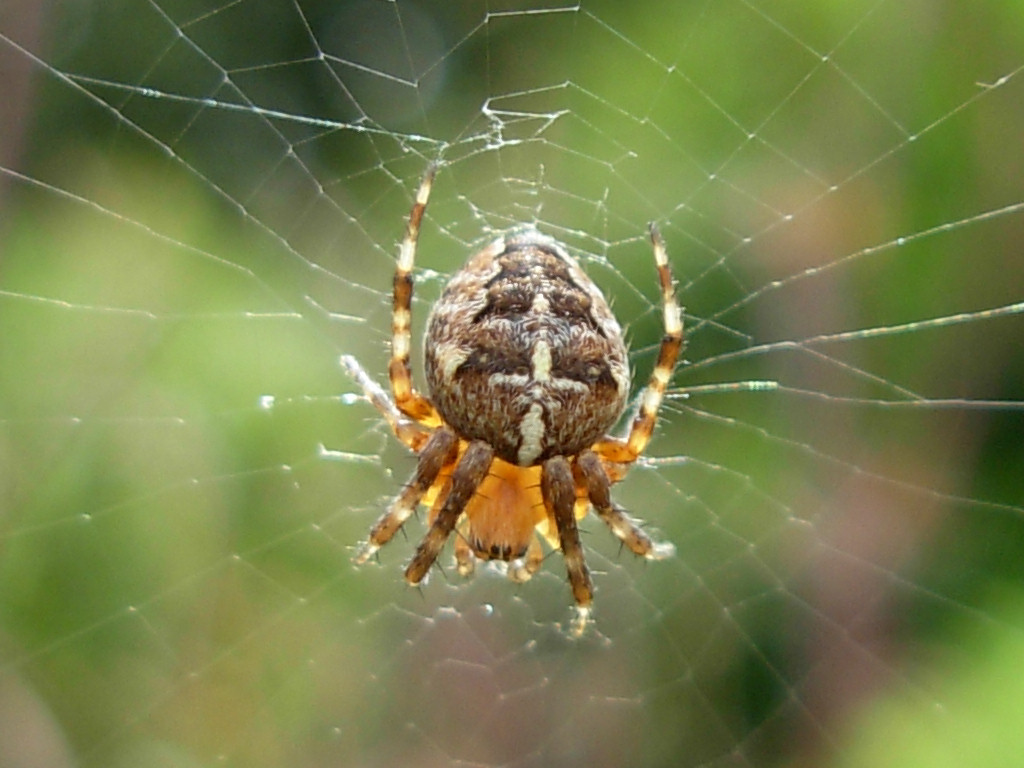spider: (315, 99, 726, 672)
